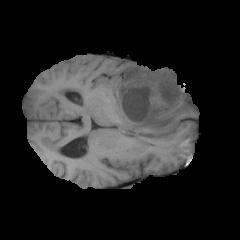glioma: (111, 67, 193, 137)
